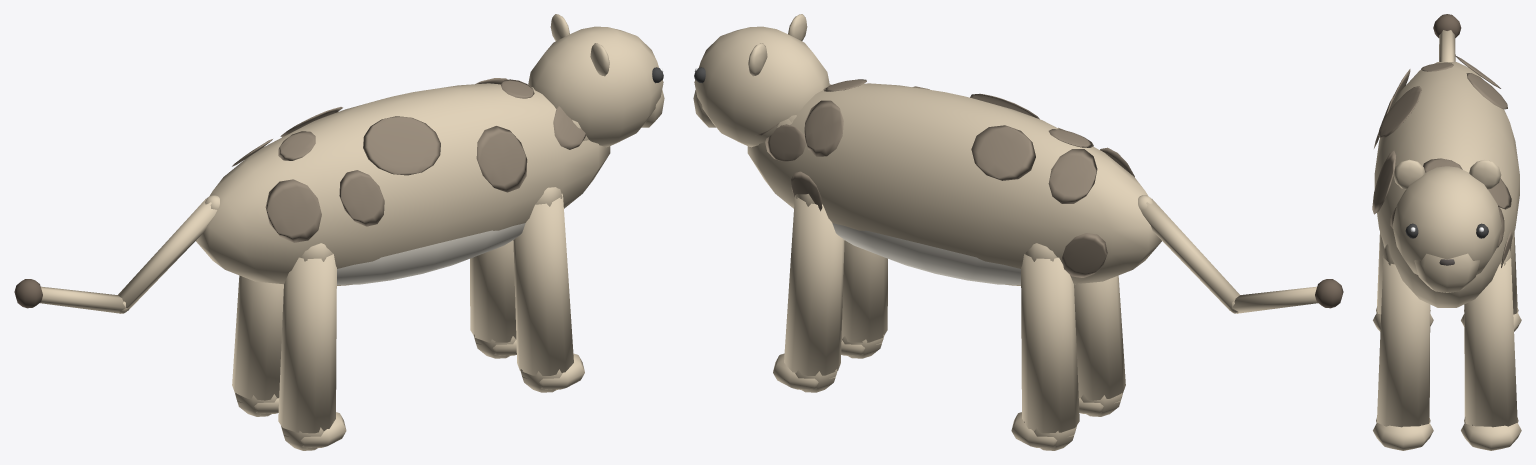
File: clouded-leopard.glb
3 renders of one model, left to right at view 1: azimuth 30°, elevation 25°; view 2: azimuth 150°, elevation 25°; view 3: azimuth 270°, elevation 25°, orthographic. The views are drawn at different scales.
Visible parts, largest first — view 1: e, e.030, e.022, e.016, e.025, e.039, e.019; view 2: e, e.030, e.025, e.019, e.022, e.039, e.016; view 3: e, e.030, e.016, e.019, e.039, e.025, e.022.
Boxes of the visible parts, bbox=[...] form: e: bbox=[196, 78, 610, 285]; e.030: bbox=[528, 14, 664, 147]; e.022: bbox=[278, 243, 346, 450]; e.016: bbox=[513, 187, 584, 392]; e.025: bbox=[232, 275, 283, 416]; e.039: bbox=[14, 195, 219, 313]; e.019: bbox=[470, 240, 516, 358]; e: bbox=[747, 79, 1161, 285]; e.030: bbox=[693, 14, 829, 147]; e.025: bbox=[1011, 243, 1079, 450]; e.019: bbox=[773, 194, 844, 392]; e.022: bbox=[1074, 275, 1125, 416]; e.039: bbox=[1138, 195, 1343, 313]; e.016: bbox=[841, 240, 887, 358]; e: bbox=[1372, 55, 1519, 307]; e.030: bbox=[1392, 159, 1501, 292]; e.016: bbox=[1373, 244, 1433, 450]; e.019: bbox=[1461, 249, 1521, 450]; e.039: bbox=[1433, 14, 1461, 61]; e.025: bbox=[1461, 232, 1521, 331]; e.022: bbox=[1373, 232, 1433, 331].
Size of the model in its own units: 1.44 by 0.7048 by 0.3061.
